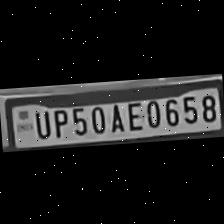0: (86, 101, 106, 133), (142, 95, 162, 127)
5: (68, 101, 88, 135), (178, 90, 198, 123)
6: (160, 94, 180, 126)
8: (196, 89, 218, 122)
A: (104, 99, 124, 133)
E: (123, 96, 143, 130)
P: (49, 105, 68, 137)
U: (30, 106, 51, 138)
